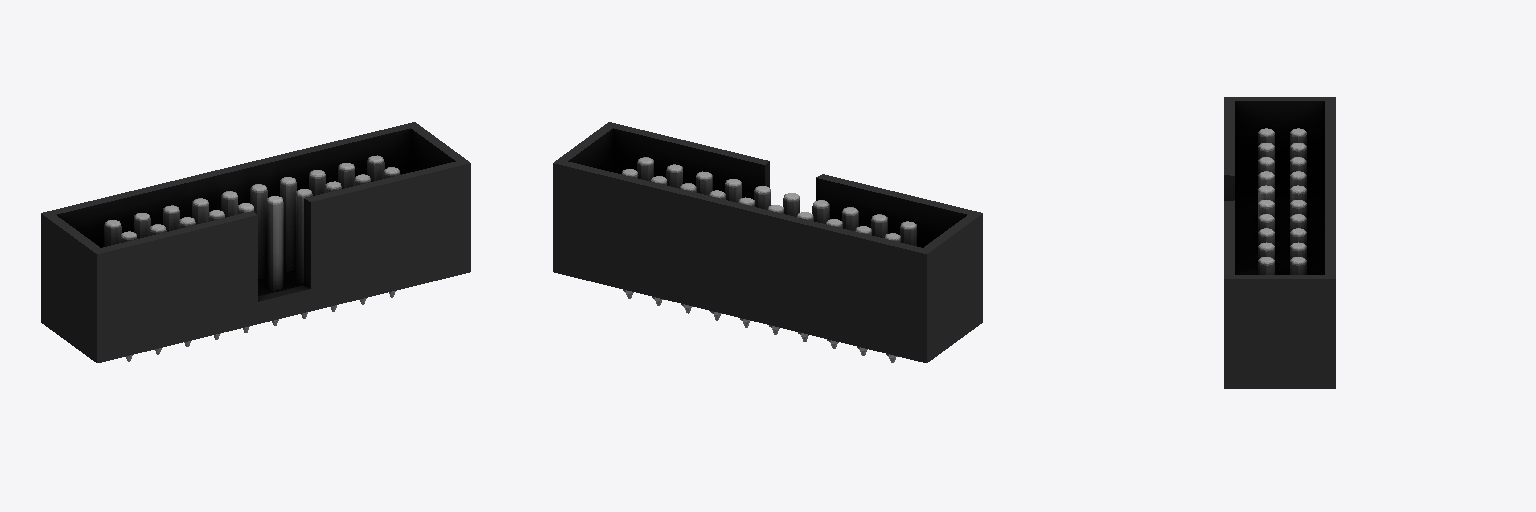
The picture shows the model from 3 angles: view 1: azimuth 30°, elevation 25°; view 2: azimuth 150°, elevation 25°; view 3: azimuth 270°, elevation 25°; orthographic projection.
Parts seen in each view (by area): view 1: Cube.020_Cube.039; view 2: Cube.020_Cube.039; view 3: Cube.020_Cube.039.
Boxes of the visible parts, <box> form: Cube.020_Cube.039: <box>41,122,470,362</box>; Cube.020_Cube.039: <box>553,122,982,362</box>; Cube.020_Cube.039: <box>1224,97,1335,388</box>.
Bounding box in the file's own units: 0.1645 × 0.057 × 0.0429.
1 materials, 1 textured.